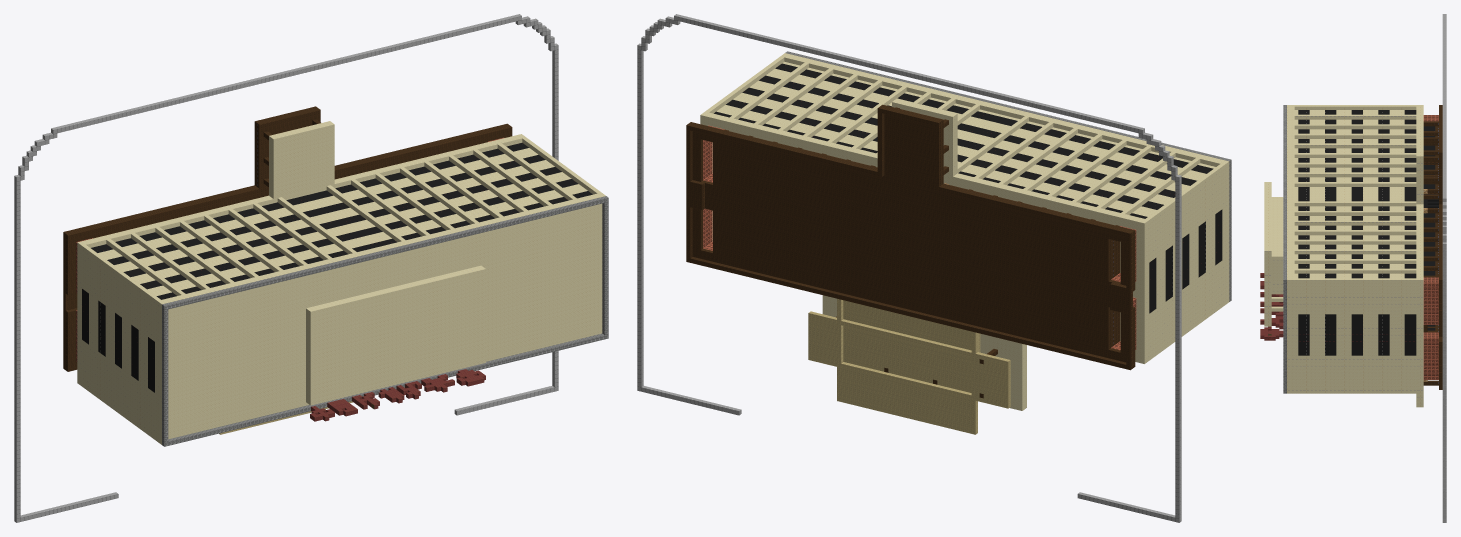
Rendered from bei1.obj.
3 renders of one model, left to right at view 1: azimuth 30°, elevation 25°; view 2: azimuth 150°, elevation 25°; view 3: azimuth 270°, elevation 25°, orthographic. The views are drawn at different scales.
Visible parts, largest first — view 1: world__-24_-39_-831_to_110_319_-739; view 2: world__-24_-39_-831_to_110_319_-739; view 3: world__-24_-39_-831_to_110_319_-739.
Boxes of the visible parts, bbox=[...] form: world__-24_-39_-831_to_110_319_-739: bbox=[14, 14, 608, 522]; world__-24_-39_-831_to_110_319_-739: bbox=[637, 14, 1231, 522]; world__-24_-39_-831_to_110_319_-739: bbox=[1260, 14, 1446, 522].
Size of the model in its own units: 266 by 180 by 98.
Materials: 1 (1 with a texture image).
